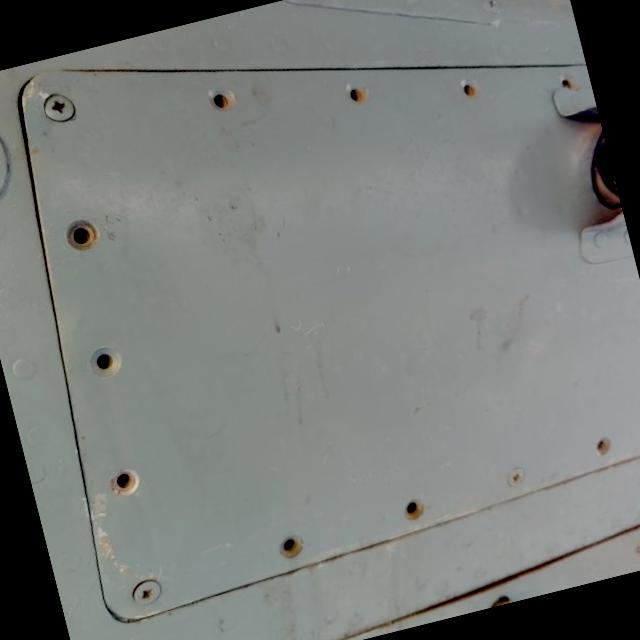Missing Fastener: (61, 214, 104, 256), (84, 342, 125, 382), (103, 466, 140, 500), (554, 66, 584, 97), (276, 531, 308, 560), (206, 86, 238, 115), (399, 495, 428, 523), (591, 435, 615, 460), (347, 84, 371, 108), (458, 77, 479, 101)
